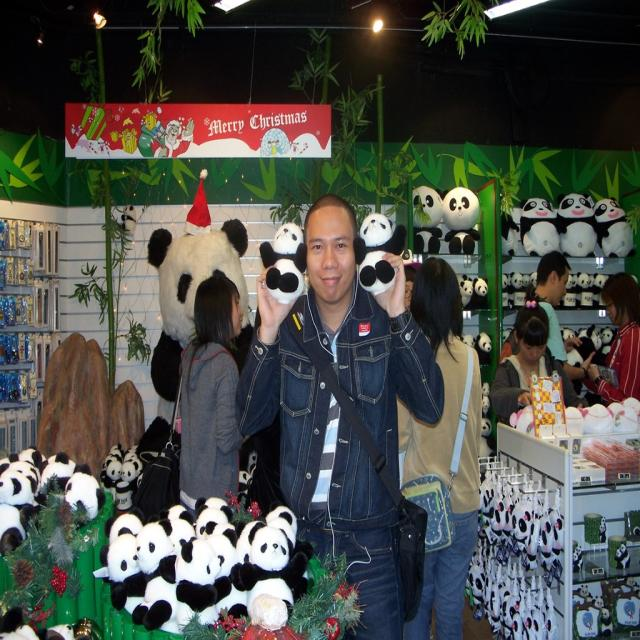panda: (95, 496, 316, 633), (146, 218, 254, 456), (0, 442, 107, 559), (474, 450, 569, 566), (461, 536, 556, 640), (351, 208, 407, 292), (257, 219, 310, 306), (96, 438, 146, 502), (556, 187, 600, 258), (444, 180, 479, 257), (408, 179, 444, 251), (518, 195, 559, 257), (597, 191, 634, 253), (559, 267, 613, 306), (557, 324, 616, 359), (500, 270, 535, 309), (0, 606, 40, 639), (477, 417, 498, 468), (500, 204, 517, 253), (476, 330, 491, 367), (461, 273, 474, 311), (476, 274, 489, 311), (457, 334, 475, 348), (480, 396, 491, 411), (482, 379, 489, 393)
